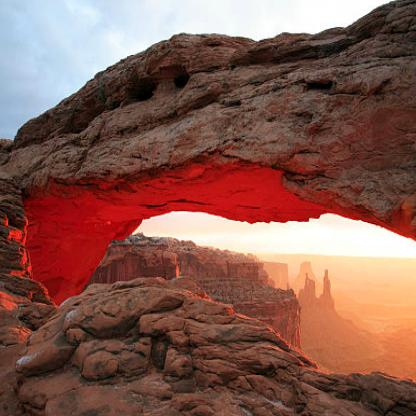Sedimentary_Sandstone: (11, 15, 415, 225), (51, 274, 217, 345), (245, 365, 415, 415), (222, 308, 309, 368), (72, 334, 161, 374)
